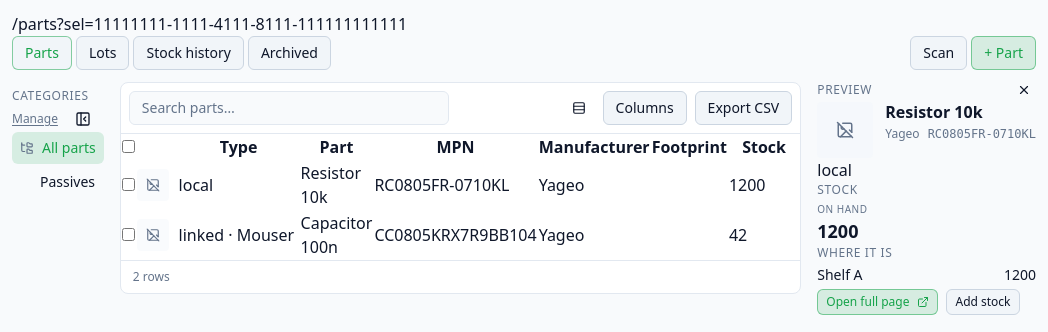
Scenario: parts list preview pane › the close button clears the selection
What coordinates should you click on to do the following:
click the button named "Close preview"
I would click on:
 (1022, 90)
Its box is [1008,78,1036,102].
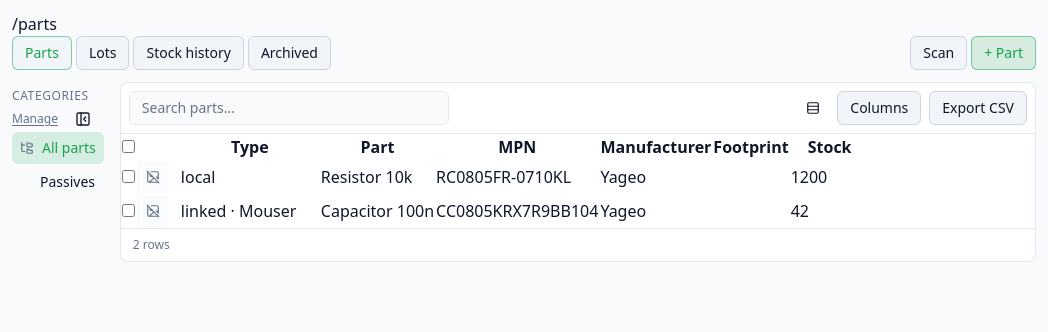
Now the element with test id "part-preview-pane" is gone
